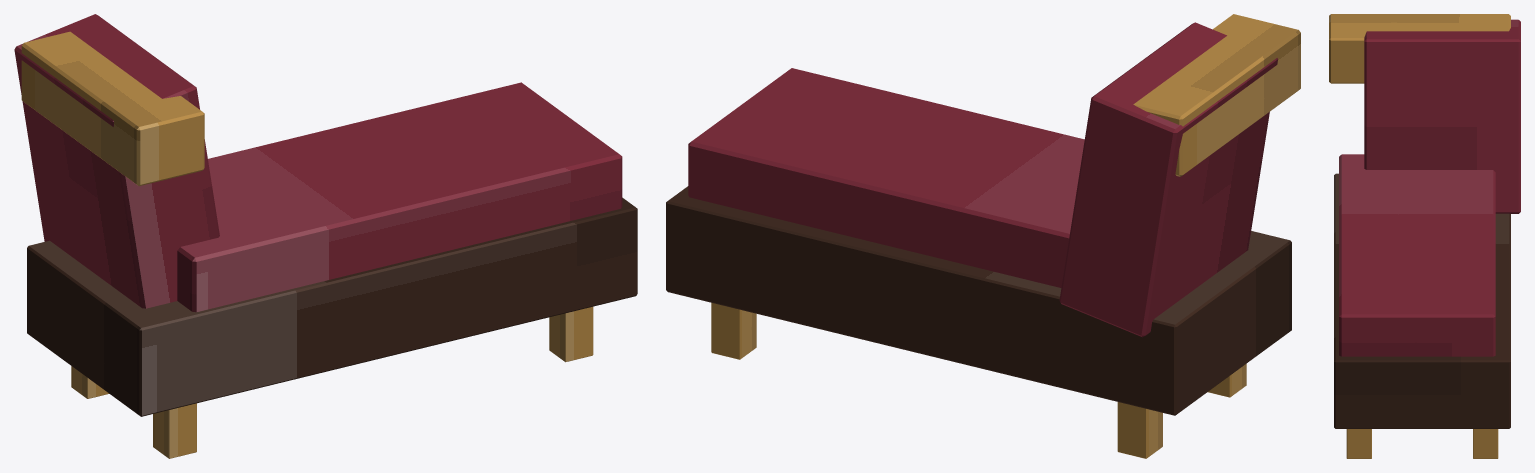
Rendered from mansion_chaise_lounge.glb.
3 renders of one model, left to right at view 1: azimuth 30°, elevation 25°; view 2: azimuth 150°, elevation 25°; view 3: azimuth 270°, elevation 25°, orthographic. The views are drawn at different scales.
Parts seen in each view (by area): view 1: ChaiseCushion, ChaiseFrame, ChaiseBack, ChaiseRoll, ChaiseFoot0.7-0.25, ChaiseFoot-0.7-0.25, ChaiseFoot-0.70.25; view 2: ChaiseFrame, ChaiseCushion, ChaiseBack, ChaiseRoll, ChaiseFoot-0.70.25, ChaiseFoot0.70.25, ChaiseFoot-0.7-0.25; view 3: ChaiseCushion, ChaiseBack, ChaiseFrame, ChaiseRoll, ChaiseFoot0.7-0.25, ChaiseFoot0.70.25.
Boxes of the visible parts, bbox=[...] form: ChaiseCushion: bbox=[177, 82, 622, 312]; ChaiseFrame: bbox=[27, 197, 637, 416]; ChaiseBack: bbox=[14, 14, 219, 308]; ChaiseRoll: bbox=[21, 31, 204, 186]; ChaiseFoot0.7-0.25: bbox=[549, 306, 593, 362]; ChaiseFoot-0.7-0.25: bbox=[153, 403, 196, 458]; ChaiseFoot-0.70.25: bbox=[71, 366, 109, 398]; ChaiseFrame: bbox=[666, 186, 1291, 415]; ChaiseCushion: bbox=[688, 68, 1084, 287]; ChaiseBack: bbox=[1059, 22, 1277, 337]; ChaiseRoll: bbox=[1133, 14, 1300, 176]; ChaiseFoot-0.70.25: bbox=[1117, 402, 1162, 458]; ChaiseFoot0.70.25: bbox=[711, 302, 756, 359]; ChaiseFoot-0.7-0.25: bbox=[1207, 364, 1246, 397]; ChaiseCushion: bbox=[1339, 154, 1495, 356]; ChaiseBack: bbox=[1364, 19, 1520, 213]; ChaiseFrame: bbox=[1334, 173, 1510, 428]; ChaiseRoll: bbox=[1329, 14, 1510, 83]; ChaiseFoot0.7-0.25: bbox=[1346, 429, 1371, 458]; ChaiseFoot0.70.25: bbox=[1473, 429, 1498, 458].
Bounding box in the file's own units: 1.78 × 1.2 × 0.76.
Materials: 1 (1 with a texture image).
